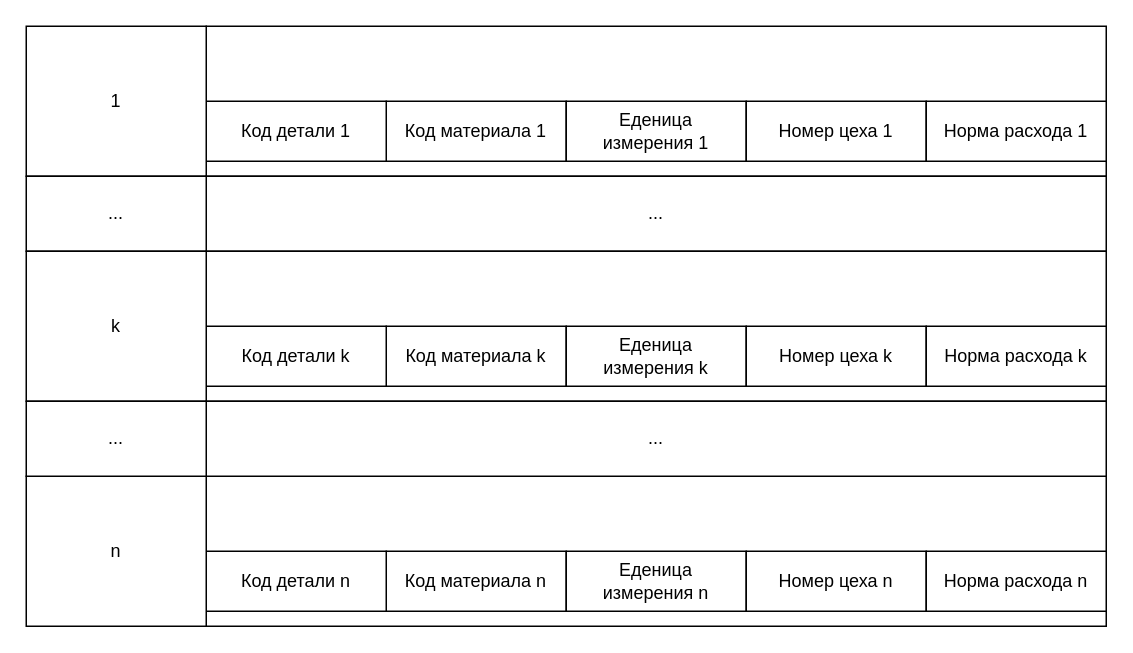
Image size: 1133x653. Some labels were removed from this diagram. The shapes that lost their labels are listed below. From the top down, each one's box as (x1, y1, x2, y2) in pixels, then its label:
(205, 25, 1106, 176): Запись 1
(205, 250, 1106, 401): Запись k
(205, 475, 1106, 626): Запись n
